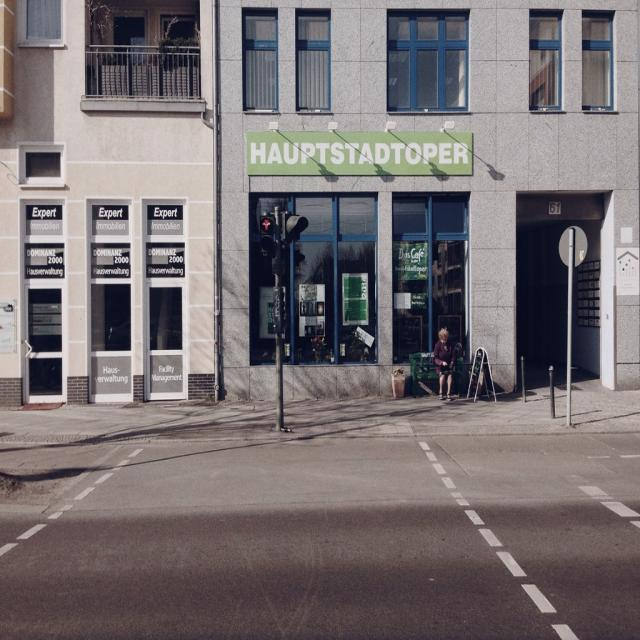traffic light: (258, 213, 277, 256)
